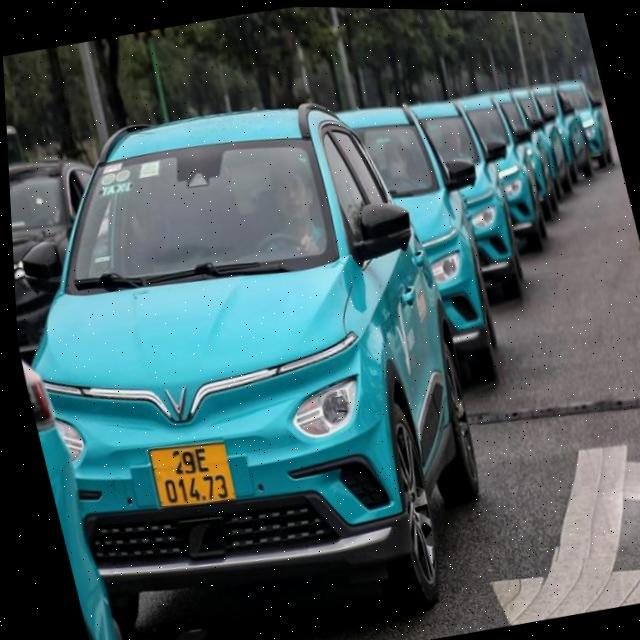car: (4, 74, 536, 640)
plate: (137, 428, 245, 519)
